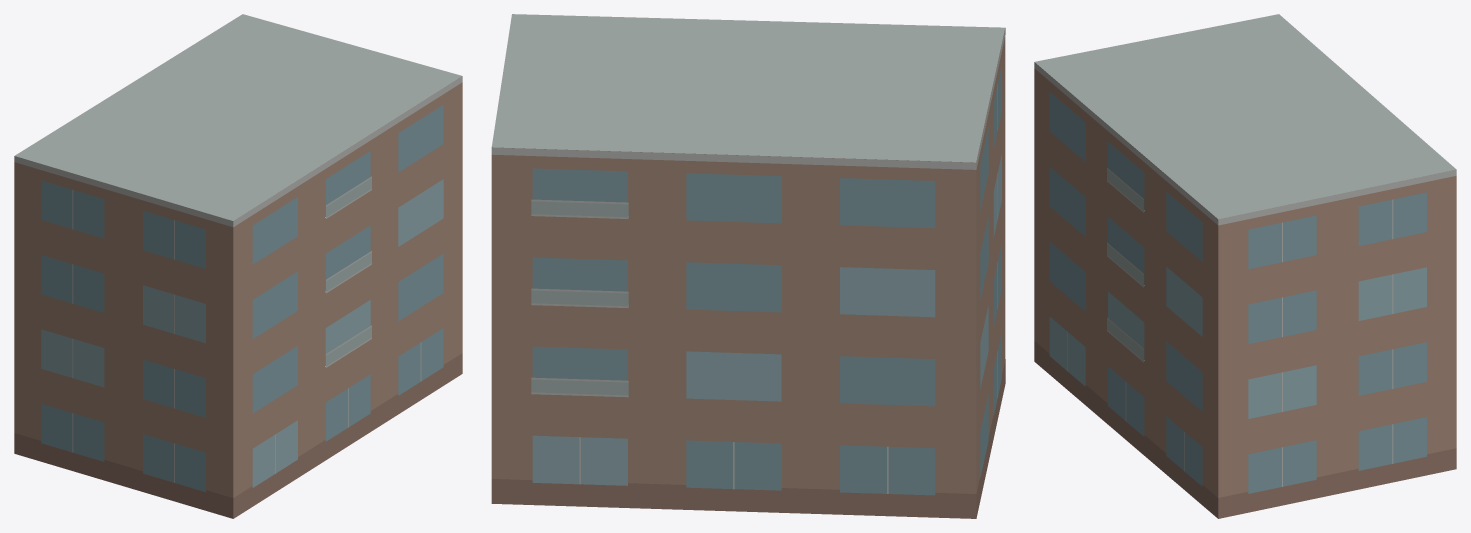
Rendered from survey-upis-32730155.glb.
The picture shows the model from 3 angles, left to right: view 1: azimuth 30°, elevation 25°; view 2: azimuth 150°, elevation 25°; view 3: azimuth 270°, elevation 25°; orthographic projection. The views are drawn at different scales.
Parts seen in each view (by area): view 1: survey-upis-32730155.tmp; view 2: survey-upis-32730155.tmp; view 3: survey-upis-32730155.tmp.
Boxes of the visible parts, left/top/right/bottom form: survey-upis-32730155.tmp: left=14, top=14, right=462, bottom=518; survey-upis-32730155.tmp: left=491, top=14, right=1005, bottom=518; survey-upis-32730155.tmp: left=1034, top=14, right=1456, bottom=518.
Size of the model in its own units: 17.35 by 11.8 by 15.09.
